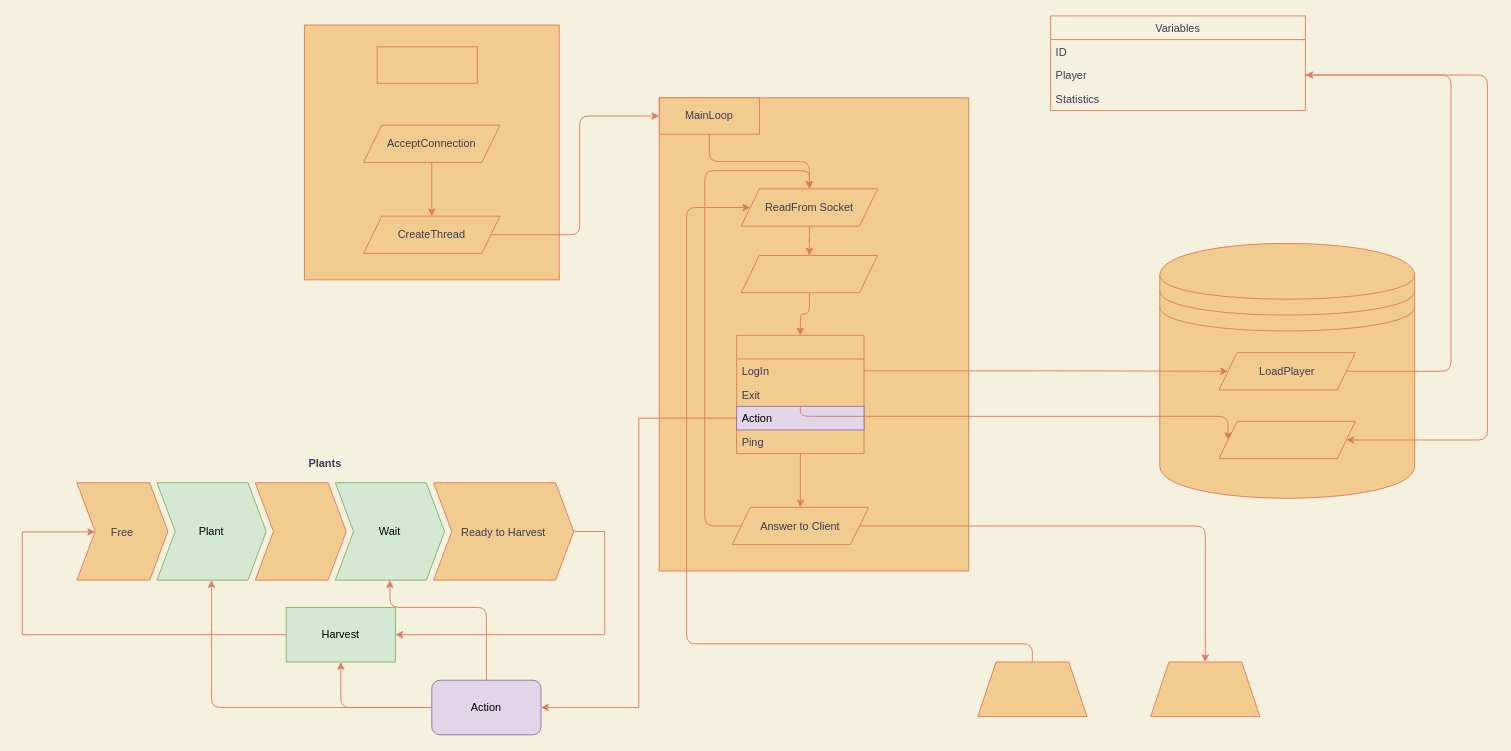
The diagram is 1511 pixels wide and 751 high, and some of its shapes have lost their labels. The box of each missing label's shape, as (x1, y1, x2, y2) in pixels:
Commands: (736, 334, 864, 454)
Execute command: (740, 255, 878, 293)
Planted: (254, 482, 346, 580)
SavePlayer: (1218, 420, 1355, 459)
Server: (376, 46, 477, 83)
SocketRead: (977, 661, 1087, 717)
SocketWrite: (1150, 661, 1260, 717)
